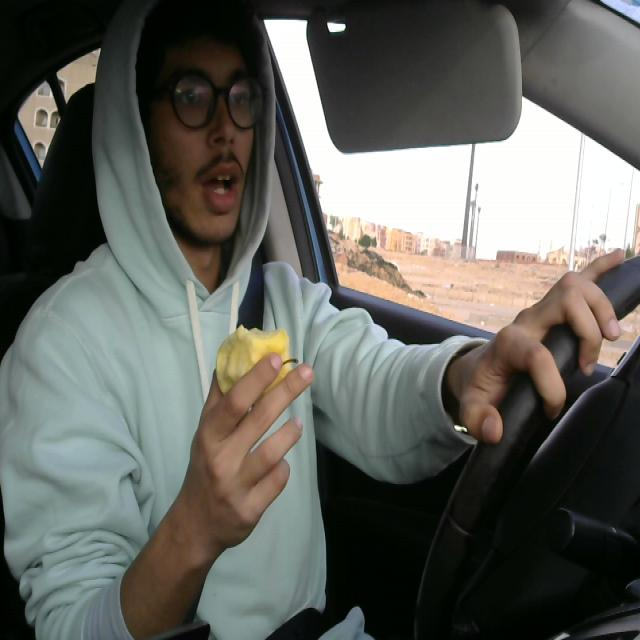eating: (212, 320, 302, 402)
